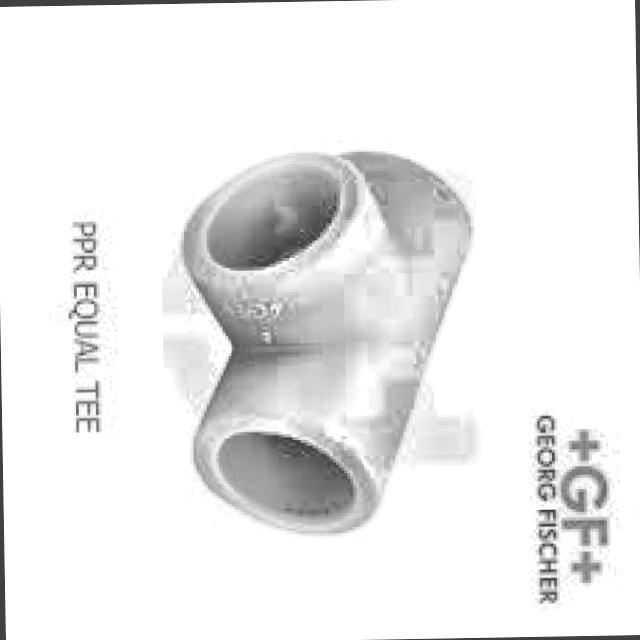EQUALTEE: (178, 136, 476, 541)
